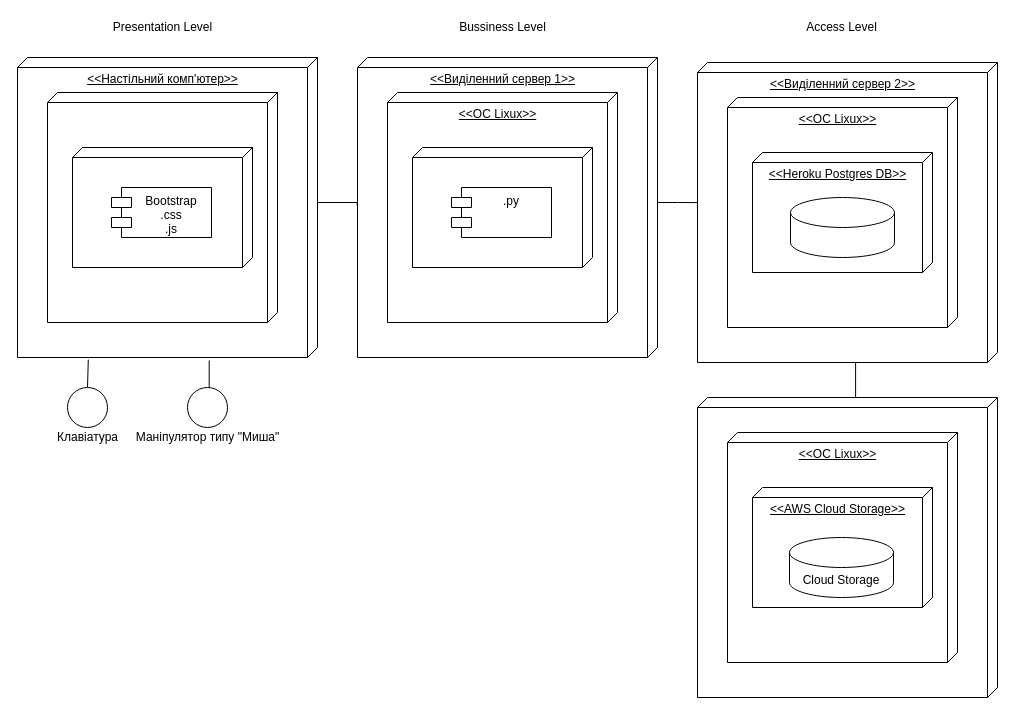
This 1015x715 diagram has some shape labels left out. The shapes that lost their labels are listed below. From the top down, each one's box as (x1, y1, x2, y2) in pixels, then its label:
(72, 146, 252, 268): <<Браузер>>
(46, 92, 278, 322): <<ОС Windows, OC Linux>>
(412, 146, 592, 268): <<Django MVT>>
(790, 196, 894, 258): Relation DB
(696, 396, 998, 698): <<Виділенний сервер 3>>
